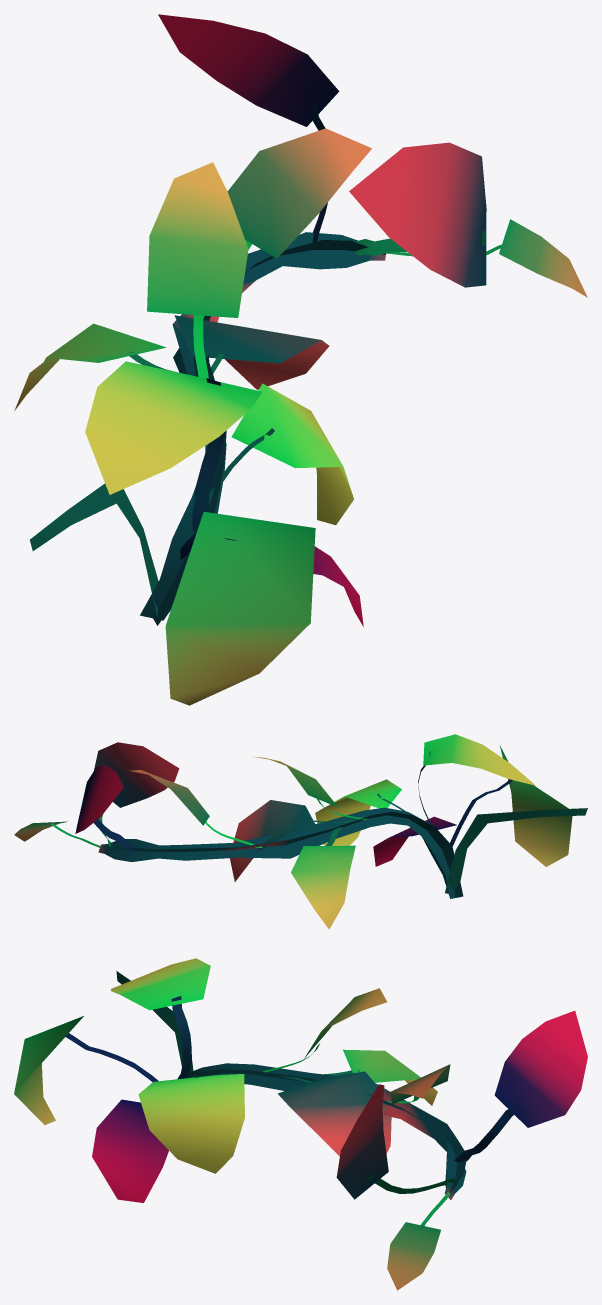
The model's file is Money_Plant_uchmfdyia_Low_uchmfdyia_VarE_LOD1.fbx.
The picture shows the model from 3 angles, top to bottom: view 1: azimuth 30°, elevation 25°; view 2: azimuth 150°, elevation 25°; view 3: azimuth 270°, elevation 25°; orthographic projection. The views are drawn at different scales.
Visible parts, largest first — view 1: _570c_VarE_LOD2; view 2: _570c_VarE_LOD2; view 3: _570c_VarE_LOD2.
Boxes of the visible parts, x1=… form: _570c_VarE_LOD2: x1=14, y1=14, x2=587, y2=705; _570c_VarE_LOD2: x1=14, y1=734, x2=587, y2=929; _570c_VarE_LOD2: x1=14, y1=958, x2=587, y2=1290.
Size of the model in its own units: 24.23 by 10.29 by 23.01.
